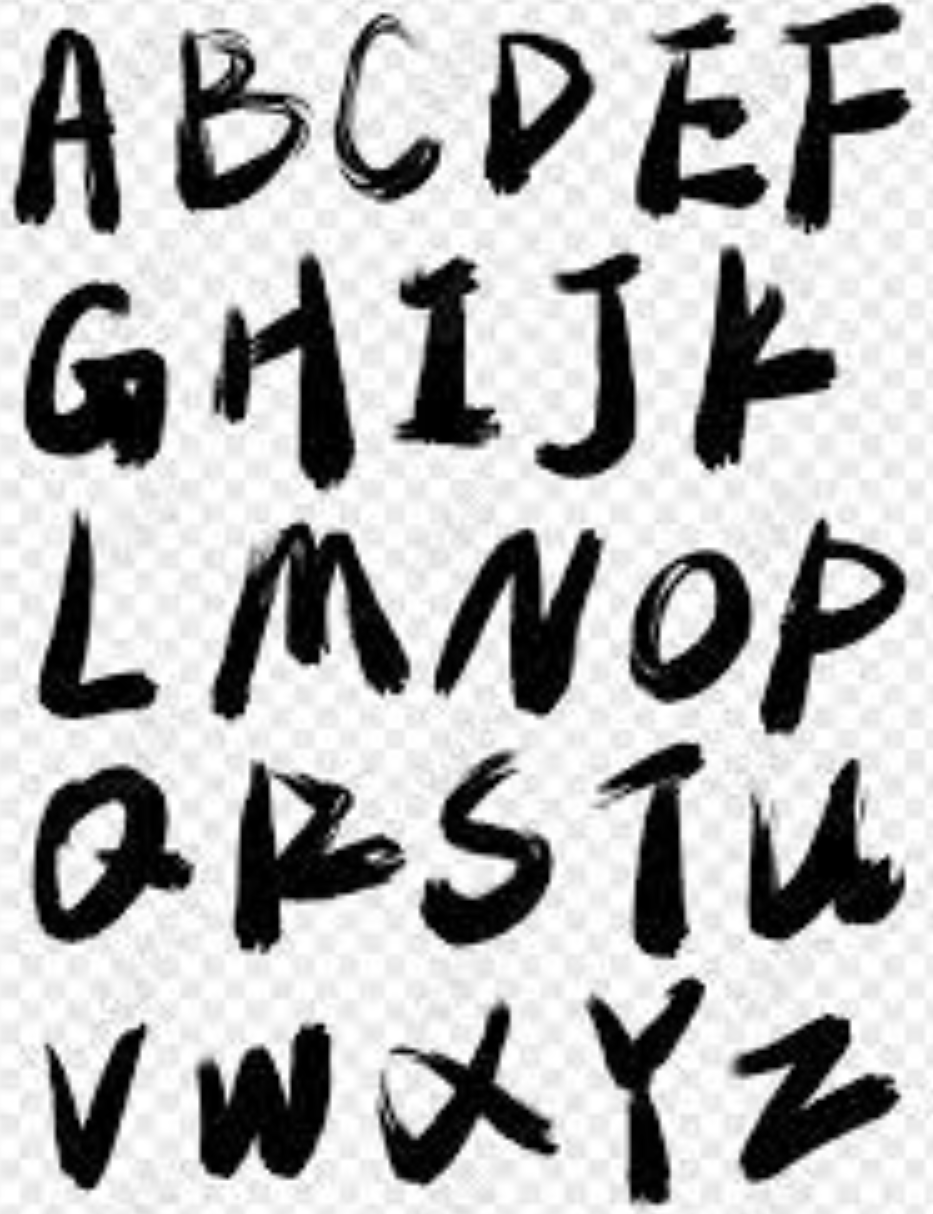A: (8, 28, 143, 242)
B: (167, 20, 320, 207)
C: (325, 9, 452, 203)
D: (474, 23, 599, 192)
E: (639, 21, 767, 214)
F: (782, 3, 911, 236)
G: (21, 273, 177, 476)
H: (217, 248, 364, 488)
I: (395, 253, 498, 454)
J: (537, 255, 651, 475)
K: (681, 238, 844, 477)
L: (31, 504, 166, 728)
M: (204, 504, 421, 725)
N: (437, 523, 613, 725)
O: (622, 535, 756, 710)
P: (754, 512, 905, 743)
Q: (26, 762, 196, 952)
R: (214, 755, 408, 956)
S: (411, 750, 566, 963)
T: (588, 745, 721, 957)
U: (739, 766, 908, 941)
V: (30, 1008, 148, 1195)
W: (189, 1012, 335, 1189)
X: (367, 998, 570, 1192)
Y: (577, 978, 718, 1202)
Z: (717, 1008, 914, 1190)
